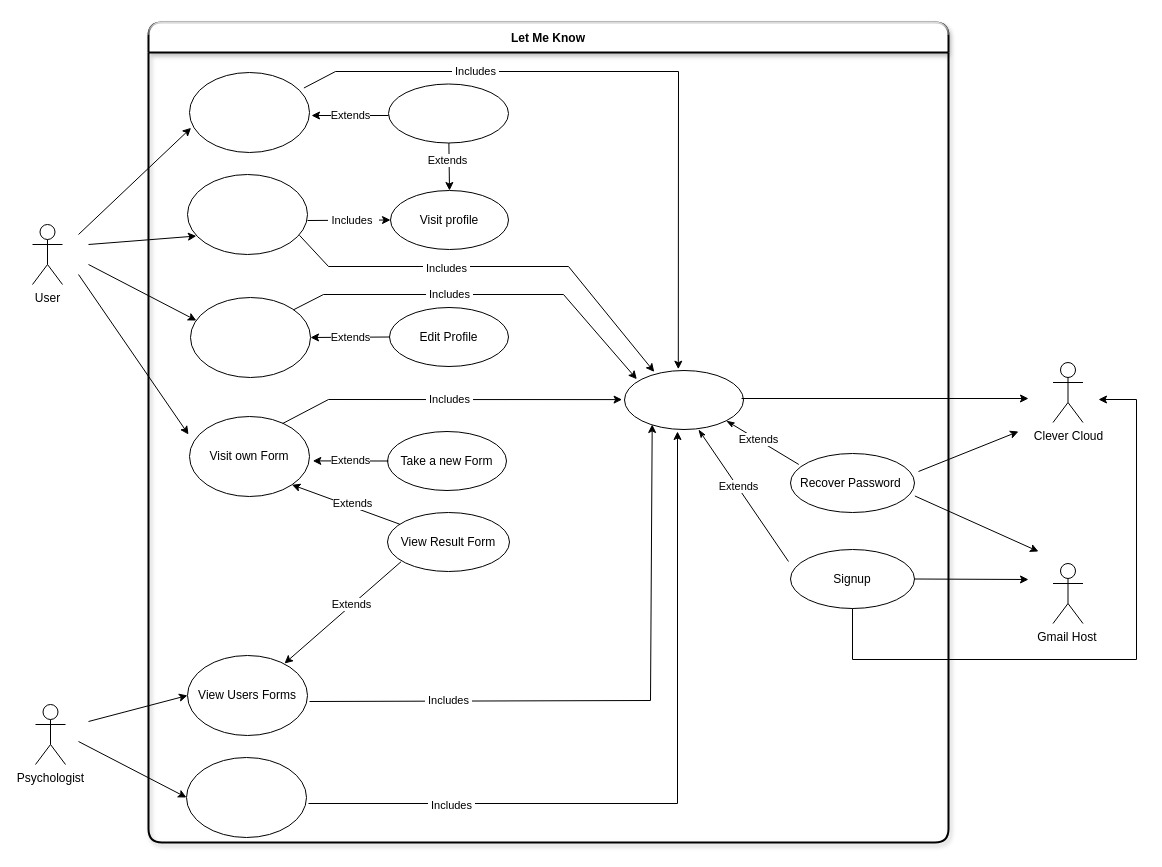
Some shapes in this 1162 by 867 pixel diagram are drawn without their labels. Each missing label, with the centre of its shape:
"Chat" goes at [448,113].
"Log in" goes at [684,400].
"Search Users" goes at [247,214].
"See Personal Profile" goes at [250,337].
"See Recent chat" goes at [249,112].
"Suggest New Question" goes at [246,797].
